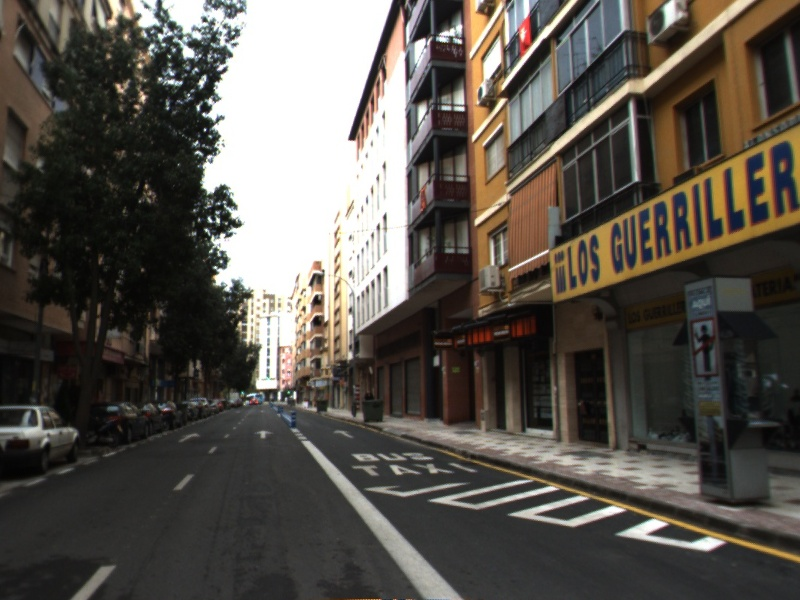STRAIGHT: (175, 431, 203, 445), (251, 428, 277, 441), (331, 428, 356, 440)
